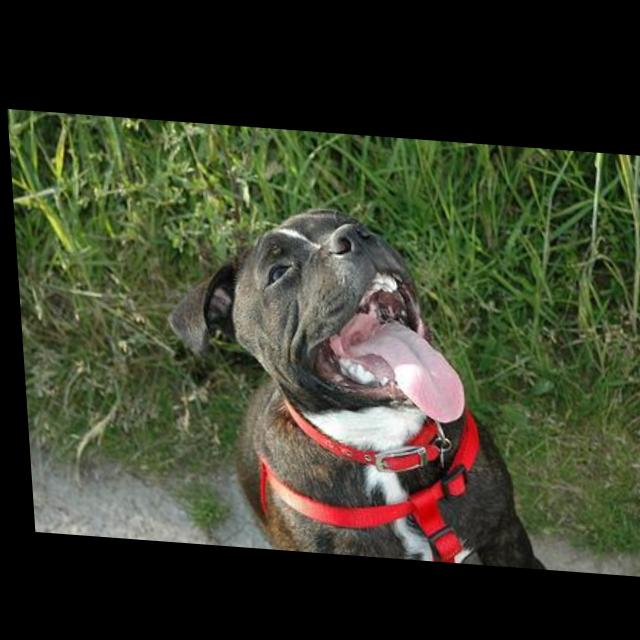amstaff: (157, 192, 543, 562)
